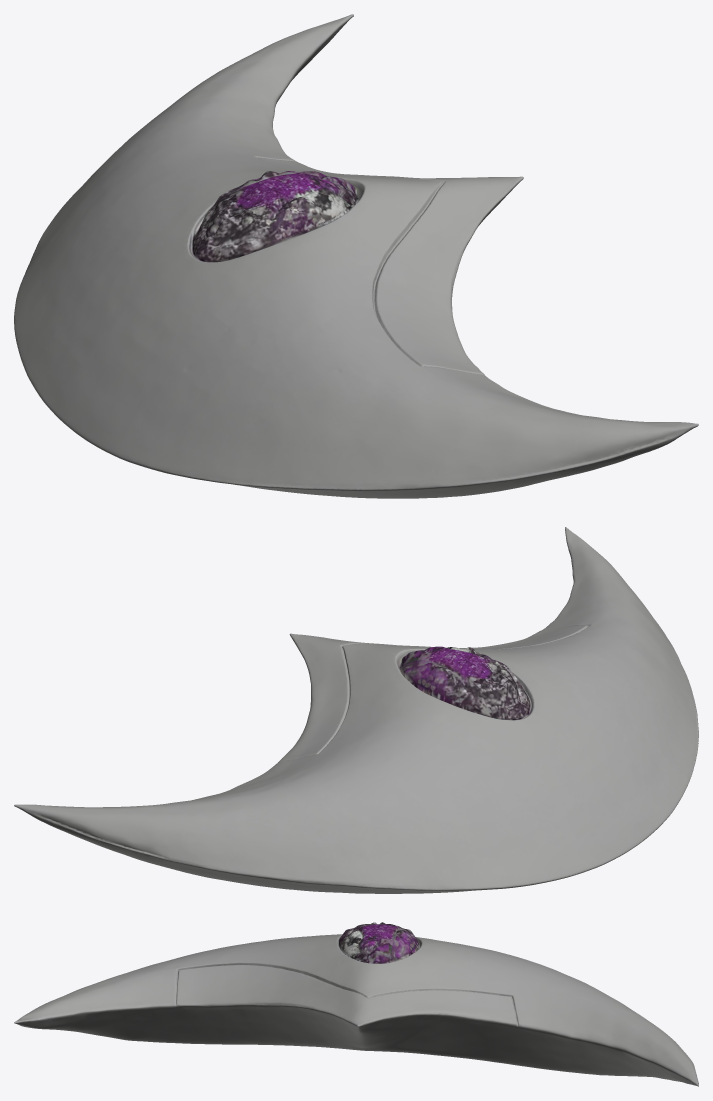
The model's file is kenneth-arnold.glb.
3 renders of one model, top to bottom at view 1: azimuth 30°, elevation 25°; view 2: azimuth 150°, elevation 25°; view 3: azimuth 270°, elevation 25°, orthographic. The views are drawn at different scales.
Parts seen in each view (by area): view 1: tripo_node_41c9a728-2f9c-4489-99bc-c9d5e28321f4; view 2: tripo_node_41c9a728-2f9c-4489-99bc-c9d5e28321f4; view 3: tripo_node_41c9a728-2f9c-4489-99bc-c9d5e28321f4.
Boxes of the visible parts, left/top/right/bottom form: tripo_node_41c9a728-2f9c-4489-99bc-c9d5e28321f4: left=14, top=14, right=698, bottom=498; tripo_node_41c9a728-2f9c-4489-99bc-c9d5e28321f4: left=14, top=527, right=698, bottom=893; tripo_node_41c9a728-2f9c-4489-99bc-c9d5e28321f4: left=14, top=922, right=698, bottom=1086.
Bounding box in the file's own units: 0.5905 × 0.2277 × 1.
Materials: 1 (1 with a texture image).
